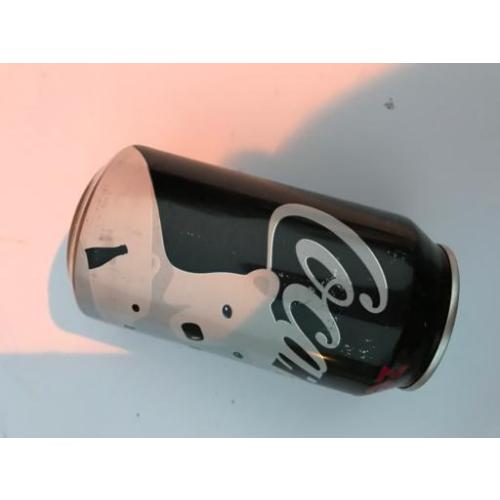metal: (68, 141, 459, 396)
